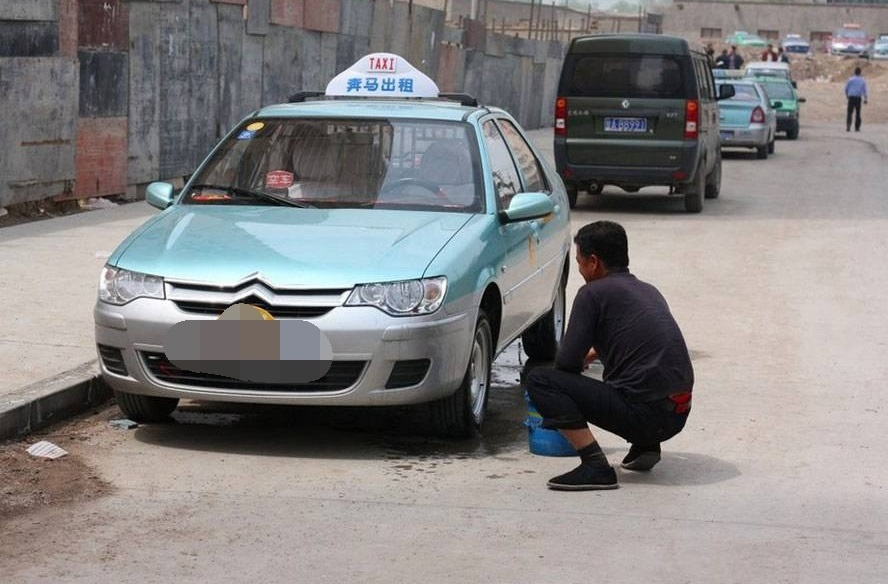taxi: (108, 58, 540, 434)
